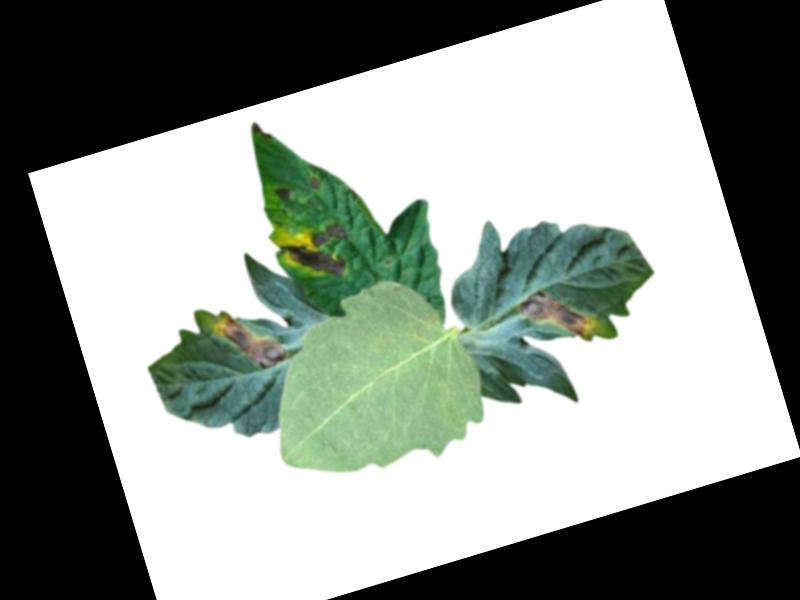Early_blight: (209, 297, 288, 383), (517, 277, 598, 356), (276, 219, 358, 293), (249, 116, 274, 146), (270, 184, 294, 207), (307, 176, 324, 193)
healthy: (241, 261, 499, 501)
